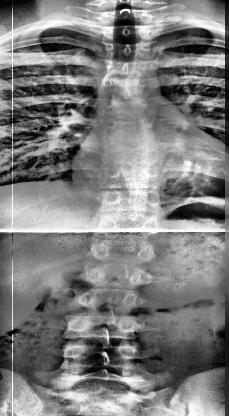Vertebrae: (61, 342, 140, 375), (63, 310, 138, 340), (81, 260, 151, 290), (73, 284, 143, 312), (94, 96, 154, 126), (93, 236, 155, 264), (99, 59, 151, 87), (98, 214, 160, 237), (96, 121, 155, 145), (99, 189, 152, 215), (96, 79, 148, 103), (99, 168, 153, 191), (99, 146, 155, 168), (100, 40, 151, 62), (98, 7, 154, 27), (98, 24, 152, 44)
